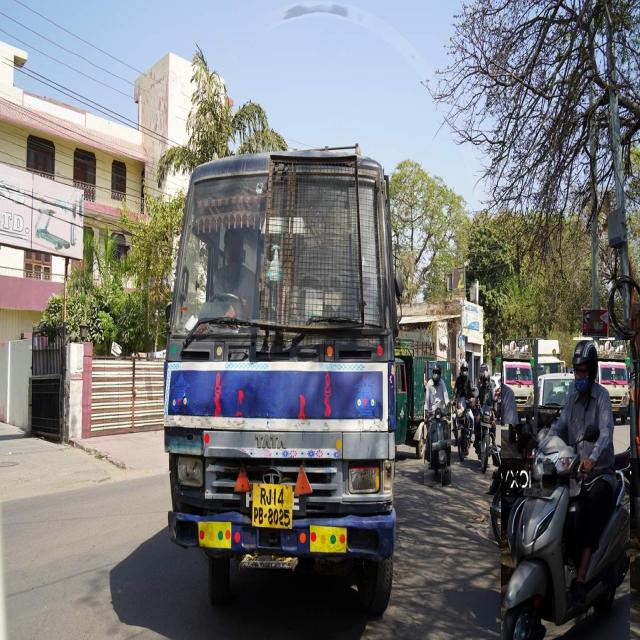bus: (164, 149, 399, 613)
motorcycle: (501, 340, 630, 640), (424, 362, 451, 486), (452, 360, 474, 461), (475, 364, 495, 470)
truck: (502, 340, 534, 424)
